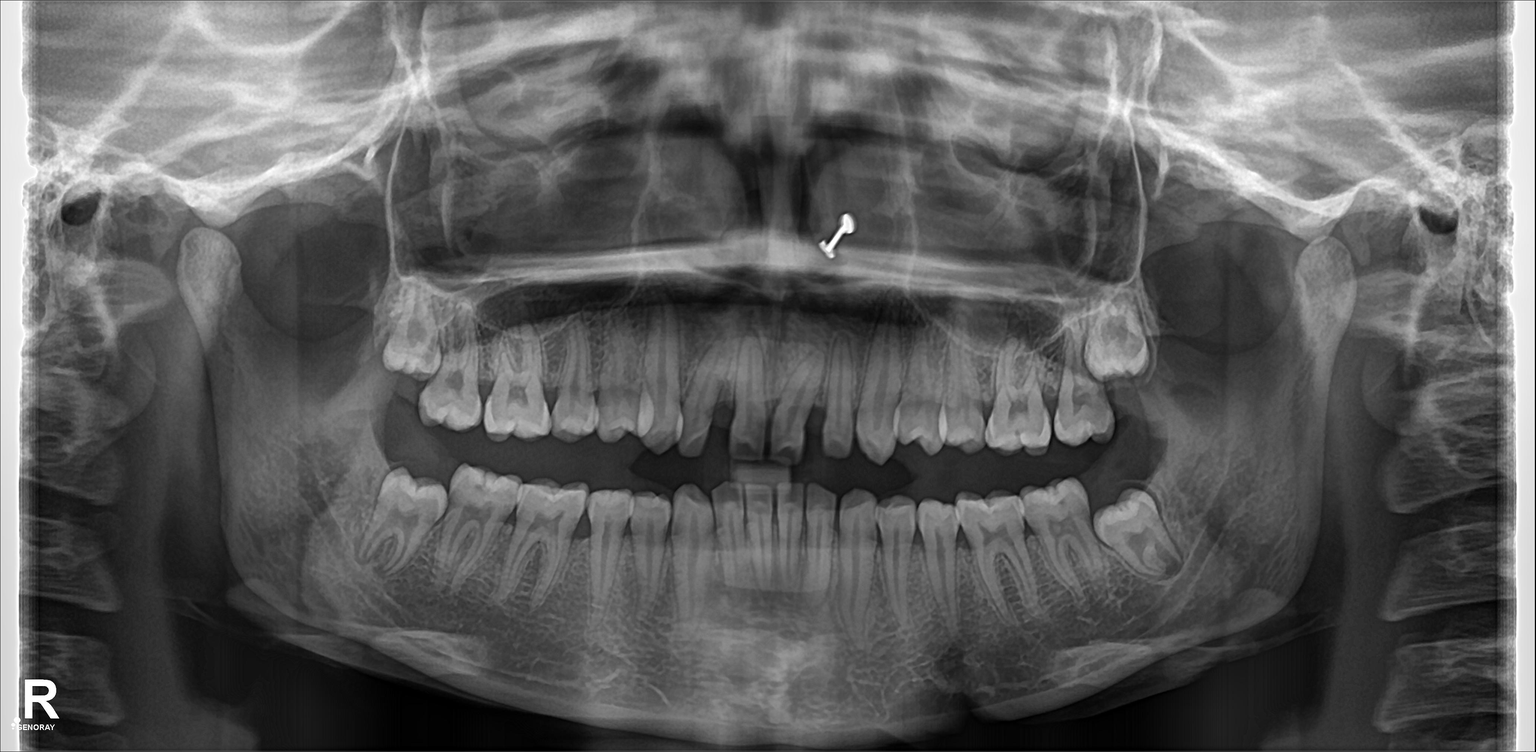Impacted Third Molar: (1095, 497, 1178, 570), (1091, 303, 1152, 378), (387, 300, 439, 372)
